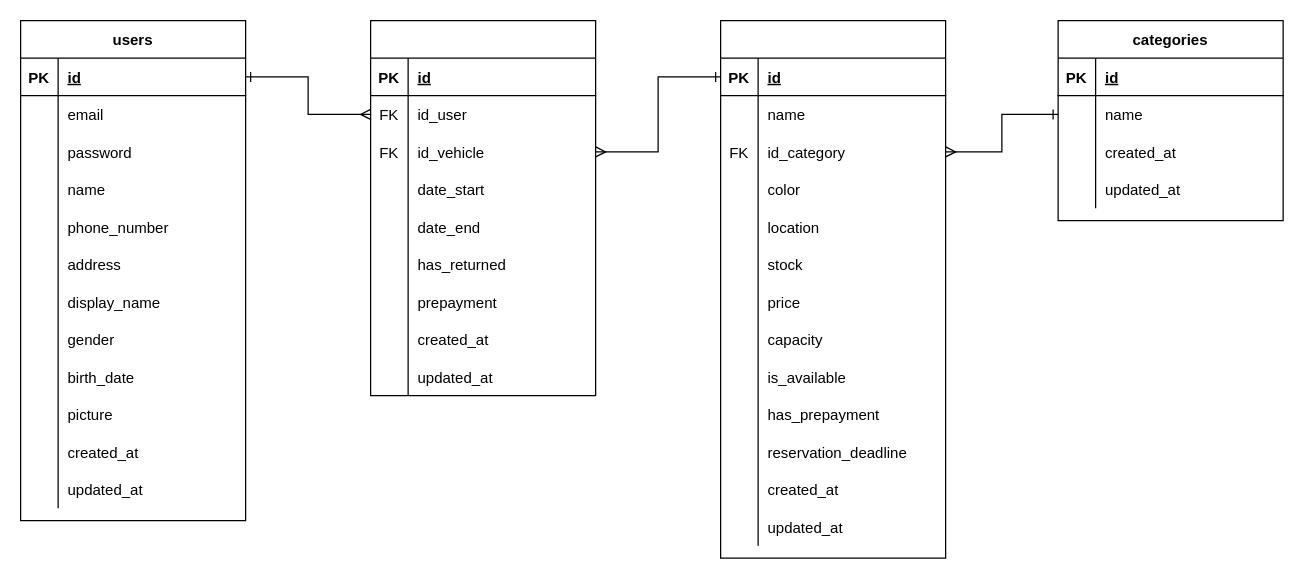
The diagram is 1304 pixels wide and 579 high, and some of its shapes have lost their labels. The box of each missing label's shape, as (x1, y1, x2, y2) in pixels:
histories: (369, 19, 596, 396)
vehicles: (719, 19, 946, 558)
